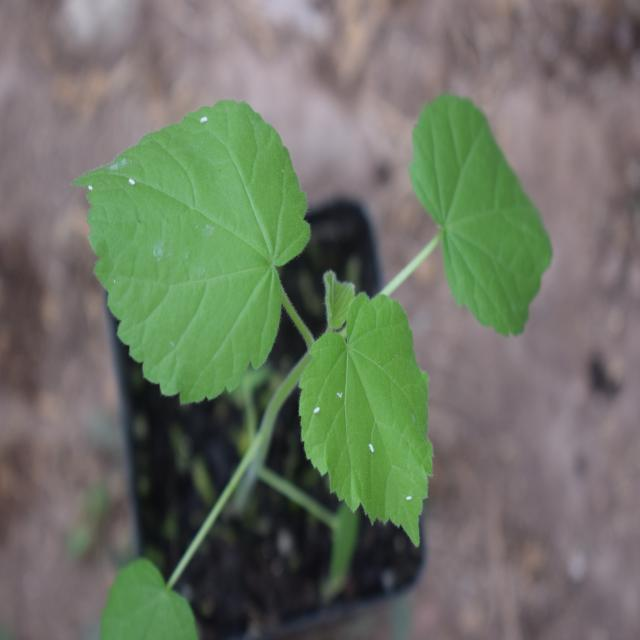abutilon theophrasti: (78, 74, 546, 546)
